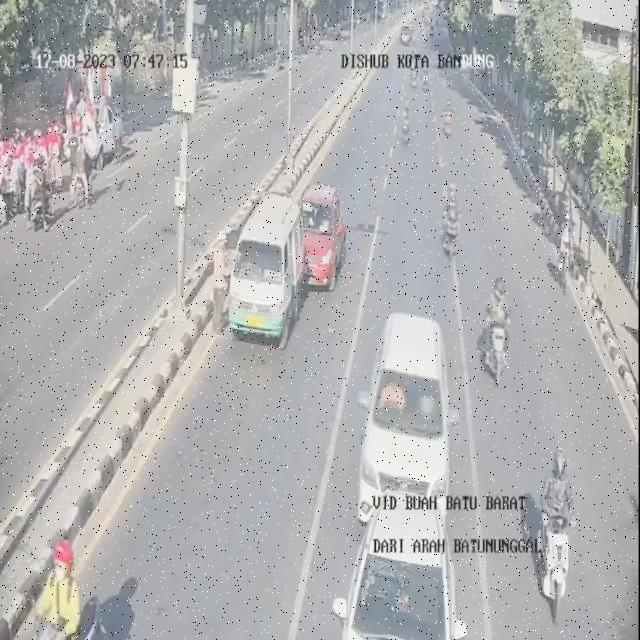cars: (353, 306, 459, 536), (324, 480, 470, 640), (232, 193, 306, 354), (293, 170, 347, 296)
motorcycle: (523, 434, 589, 618), (22, 540, 115, 640), (477, 270, 524, 385), (435, 170, 475, 273), (438, 96, 458, 148), (397, 101, 416, 154), (409, 58, 422, 94), (420, 60, 432, 96)
